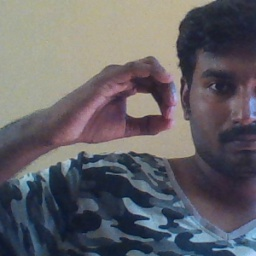O: (56, 49, 182, 147)
